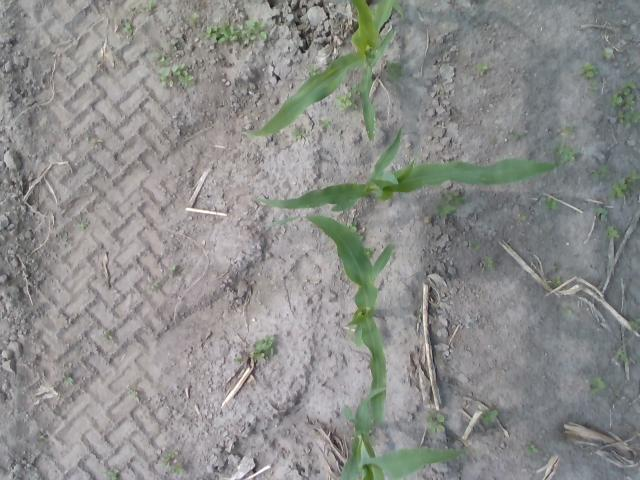Maize: (264, 214, 392, 434), (254, 128, 560, 211), (245, 0, 400, 142), (340, 399, 468, 480)
Weeds: (204, 21, 267, 40), (614, 84, 640, 128), (159, 63, 192, 87), (612, 172, 639, 196), (162, 450, 184, 476), (250, 340, 272, 357), (435, 197, 454, 216), (425, 408, 444, 426), (590, 165, 610, 182), (558, 143, 576, 160), (338, 92, 356, 109), (446, 192, 464, 206), (154, 52, 172, 66), (481, 410, 499, 424), (386, 63, 401, 78), (140, 1, 158, 12), (582, 63, 596, 77), (292, 128, 306, 140), (105, 468, 119, 480), (596, 206, 608, 220), (544, 197, 558, 208), (316, 118, 326, 132), (76, 219, 90, 229), (189, 12, 199, 26), (124, 24, 136, 35), (560, 125, 572, 136), (591, 376, 602, 388), (168, 264, 178, 276), (608, 225, 618, 236), (477, 63, 488, 73), (552, 276, 562, 286), (513, 130, 523, 140), (102, 328, 110, 340), (589, 80, 598, 90), (486, 256, 495, 266), (470, 242, 480, 250), (64, 377, 73, 384), (39, 432, 47, 439), (130, 390, 138, 396), (518, 216, 525, 220)
